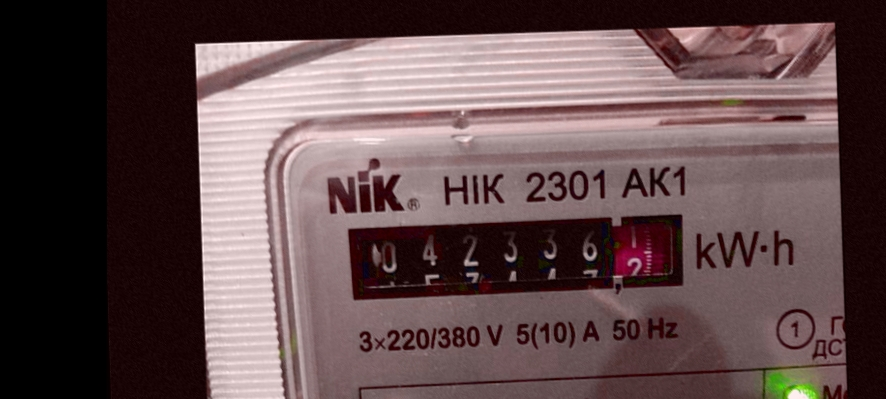0: (378, 239, 399, 275)
1: (626, 222, 640, 251)
2: (459, 232, 480, 269), (624, 256, 644, 277)
3: (500, 227, 520, 265), (538, 226, 559, 262)
4: (419, 231, 439, 268)
6: (577, 227, 600, 263)
screen: (340, 204, 694, 309)
